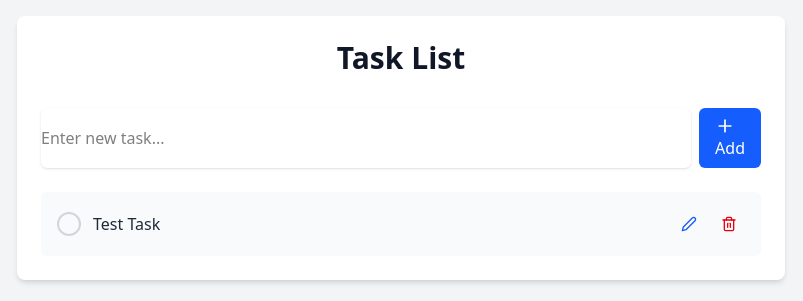
Test: Component Renderingt › User Interactions › deletes todos
Expected: the text "Test Task" is shown, [93,212,160,236]
Note: Confirm deletion is set to true in beforeEach
Click the button named "Delete Task". click: (729,224)
box: [713,208,745,240]
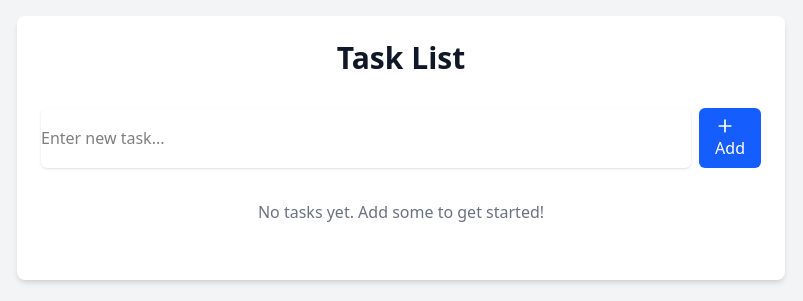
Now the text "Test Task" is gone
